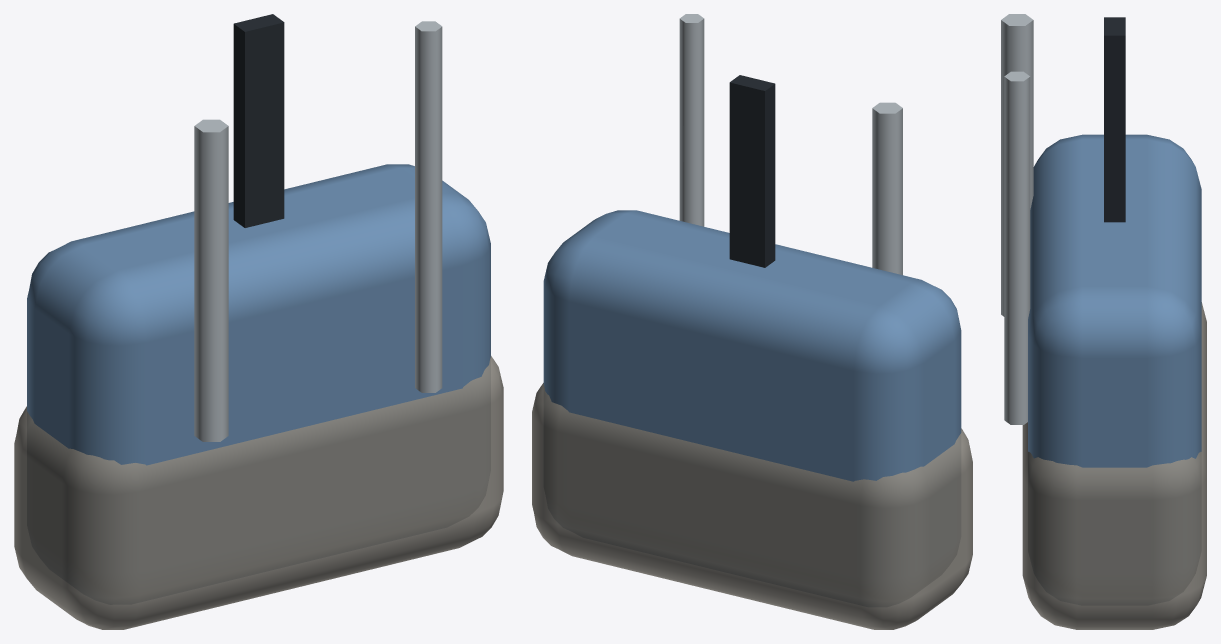
Rendered from tool-bag.glb.
3 renders of one model, left to right at view 1: azimuth 30°, elevation 25°; view 2: azimuth 150°, elevation 25°; view 3: azimuth 270°, elevation 25°, orthographic. The views are drawn at different scales.
Visible parts, largest first — view 1: tool-bag-cargo-bag-blue, dust_bag-moon-dust-coat, tool-bag-aluminium, tool-bag-dark-polymer; view 2: tool-bag-cargo-bag-blue, dust_bag-moon-dust-coat, tool-bag-aluminium, tool-bag-dark-polymer; view 3: tool-bag-cargo-bag-blue, dust_bag-moon-dust-coat, tool-bag-aluminium, tool-bag-dark-polymer.
Boxes of the visible parts, <box> form: tool-bag-cargo-bag-blue: <box>27,164,490,465</box>; dust_bag-moon-dust-coat: <box>14,356,503,629</box>; tool-bag-aluminium: <box>194,21,442,441</box>; tool-bag-dark-polymer: <box>233,14,284,227</box>; tool-bag-cargo-bag-blue: <box>543,210,961,481</box>; dust_bag-moon-dust-coat: <box>532,383,972,629</box>; tool-bag-aluminium: <box>679,14,902,275</box>; tool-bag-dark-polymer: <box>729,75,775,267</box>; tool-bag-cargo-bag-blue: <box>1028,134,1201,467</box>; dust_bag-moon-dust-coat: <box>1022,302,1206,629</box>; tool-bag-aluminium: <box>1001,14,1033,424</box>; tool-bag-dark-polymer: <box>1104,17,1125,222</box>.
Size of the model in its own units: 0.44 by 0.535 by 0.19.
